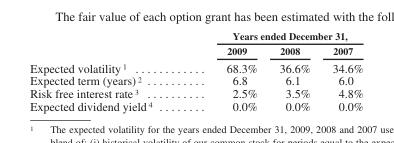table: (29, 29, 362, 112)
table column: (29, 29, 188, 112), (188, 29, 267, 112), (267, 29, 320, 112), (320, 29, 362, 112)
table column header: (29, 29, 362, 58)
table row: (29, 42, 362, 58), (29, 58, 362, 73), (29, 29, 362, 42), (29, 73, 362, 86), (29, 86, 362, 99), (29, 99, 362, 112)
table spanning cell: (188, 29, 362, 42)
